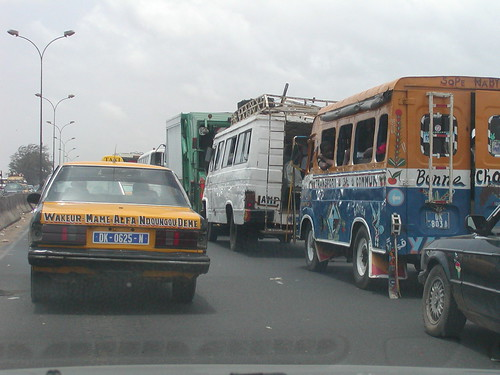car: (30, 153, 215, 295)
light pole: (9, 27, 72, 175), (36, 89, 70, 166), (46, 119, 73, 169)
sky: (1, 1, 500, 142)
street: (1, 227, 455, 375)
van: (297, 77, 500, 277), (203, 97, 315, 246)
